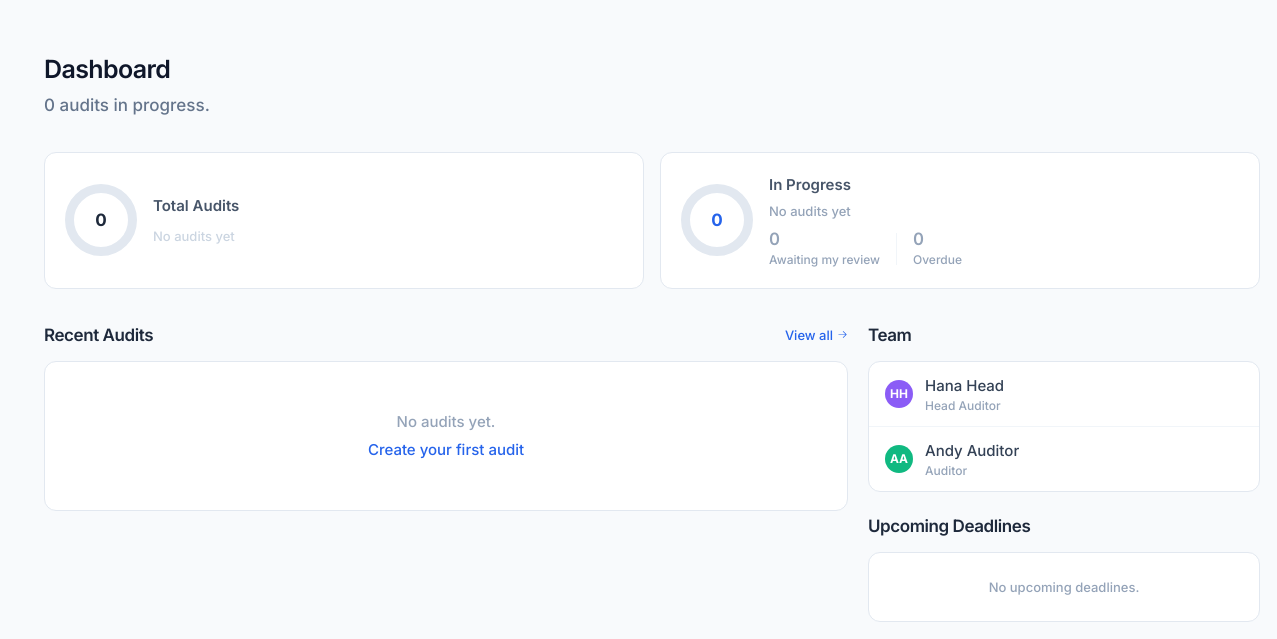
Test: DashboardPage › shows empty states, and a create link for a head auditor, when there are no audits
This screenshot has width=1277, height=639.
Expected: the text "0 audits in progress." is shown, top-left (44, 92), bottom-right (210, 120)
Expected: the text "No audits yet" is shown 2 times, top-left (153, 226), bottom-right (239, 246); top-left (769, 203), bottom-right (851, 219)
What coordinates should you click on to do the following:
click the link "Create your first audit"
I would click on:
 (446, 450)
Its box is top-left (368, 438), bottom-right (524, 462).
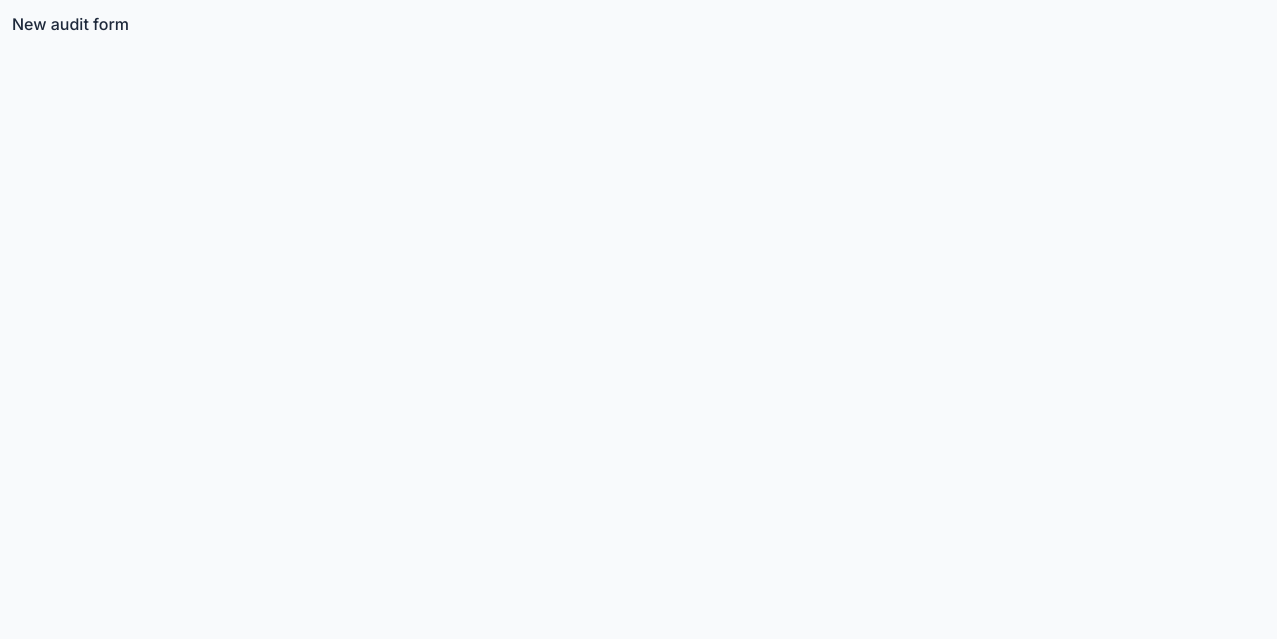
Expected: the text "New audit form" is shown, top-left (12, 14), bottom-right (129, 34)
